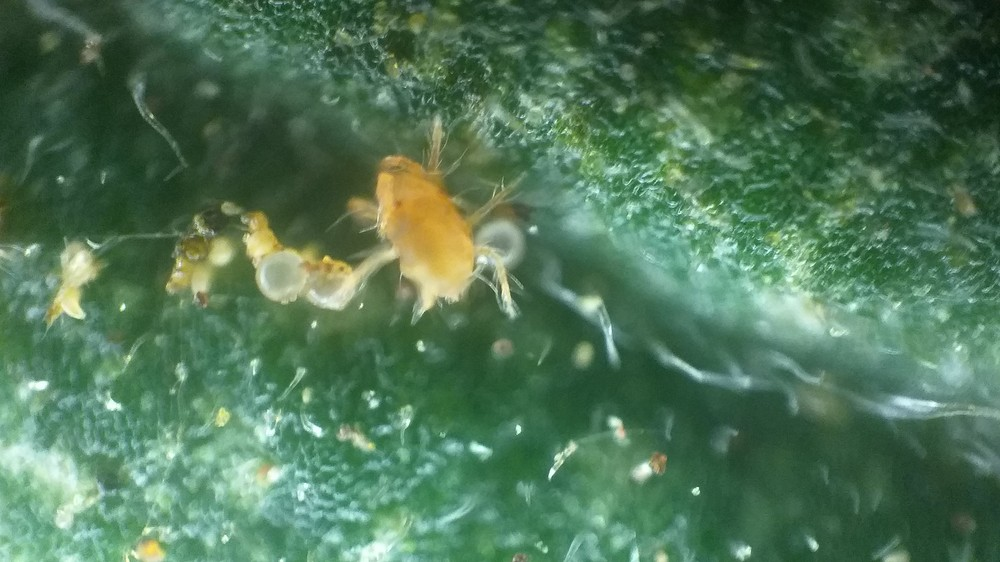Aracnido Rojo: (323, 118, 547, 343)
